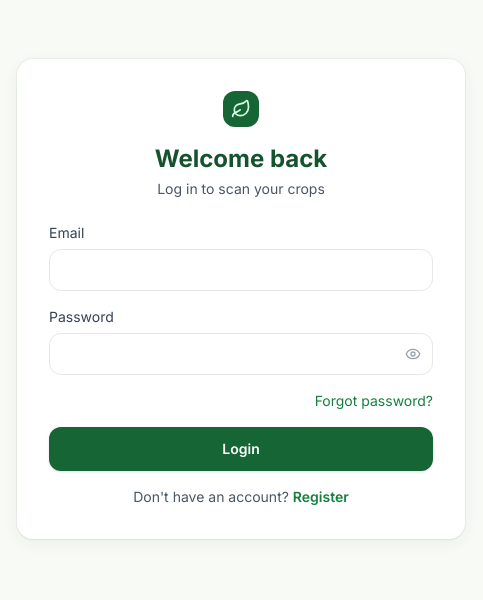
Login page ↔ API › shows a network error message when the backend is down
In the field labelled "Email": (241, 270) [49, 249, 433, 291], type "ram@example.com"
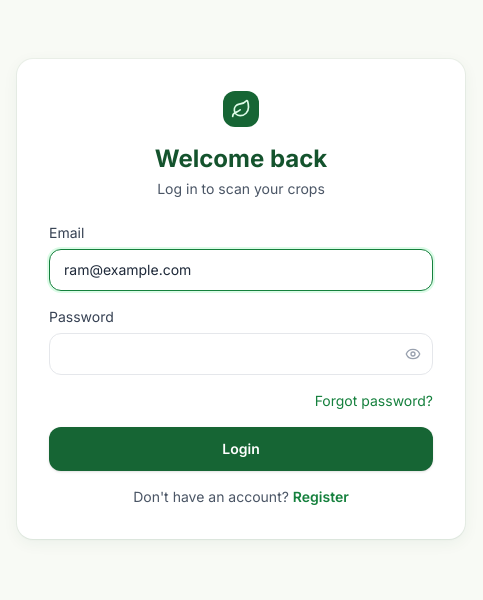
In the password field labelled "Password": (241, 354) [49, 333, 433, 375], type "Kisan1234"
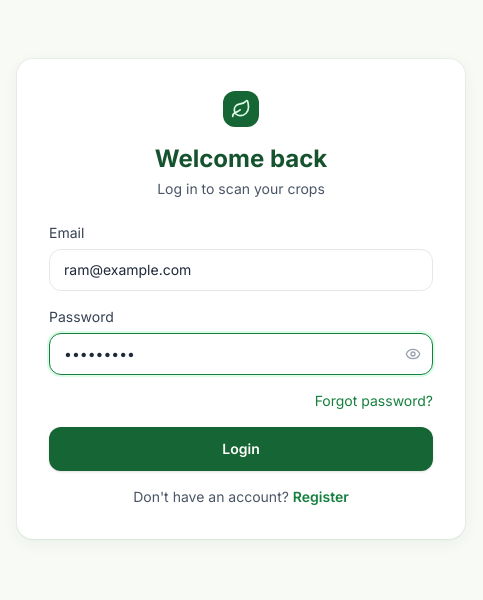
Click the button "Login": (241, 449) [49, 427, 433, 471]
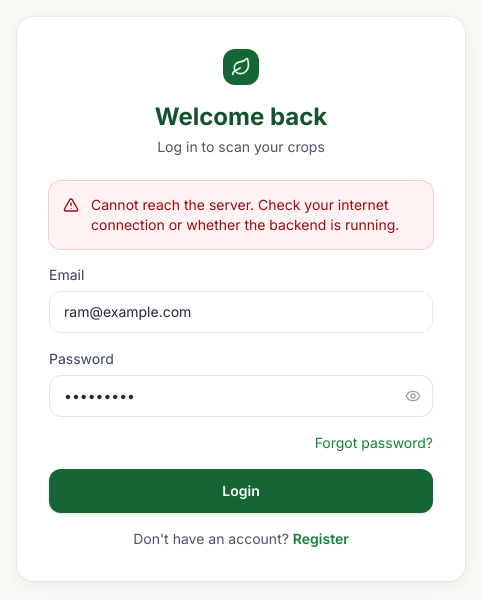
Check: the message shows "Cannot reach the server", box [91, 196, 399, 233]
